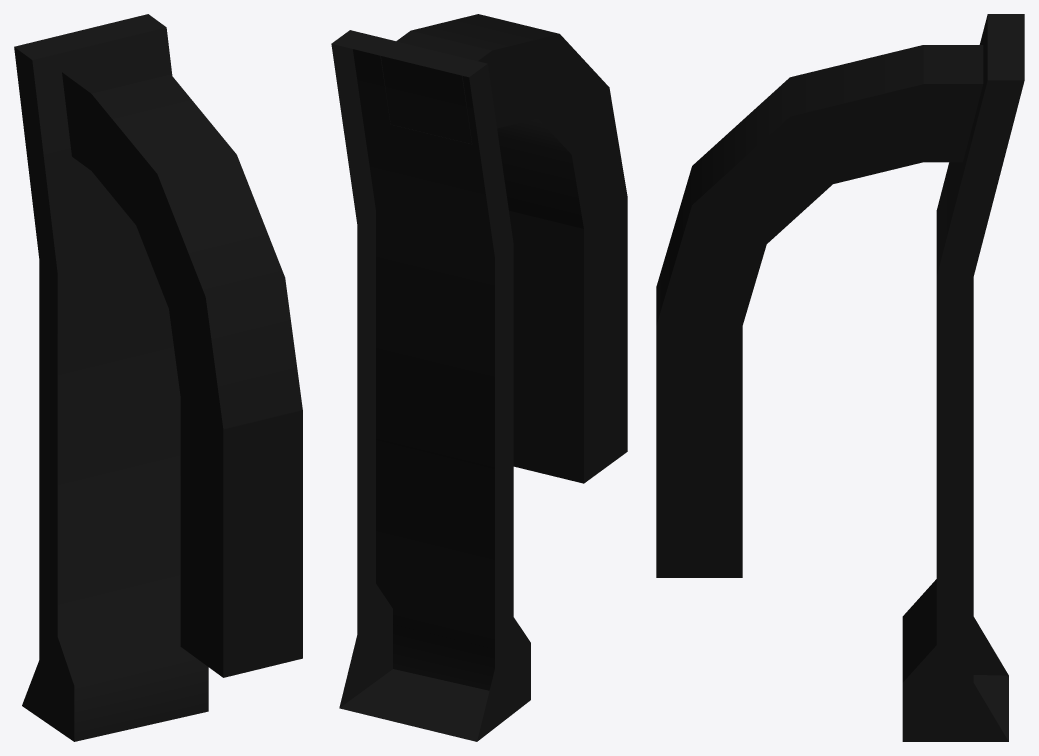
Rendered from Itr_Obj_Coffeepot_Pot_Handle_01.FBX.
3 renders of one model, left to right at view 1: azimuth 30°, elevation 25°; view 2: azimuth 150°, elevation 25°; view 3: azimuth 270°, elevation 25°, orthographic. The views are drawn at different scales.
Parts seen in each view (by area): view 1: Itr_Obj_Coffeepot_Pot_Handle_01; view 2: Itr_Obj_Coffeepot_Pot_Handle_01; view 3: Itr_Obj_Coffeepot_Pot_Handle_01.
Boxes of the visible parts, x1,y1,x2,y2 form: Itr_Obj_Coffeepot_Pot_Handle_01: (14,14,302,741); Itr_Obj_Coffeepot_Pot_Handle_01: (331,14,627,741); Itr_Obj_Coffeepot_Pot_Handle_01: (656,14,1024,741).
Size of the model in its own units: 1.08 by 5.02 by 2.53.
